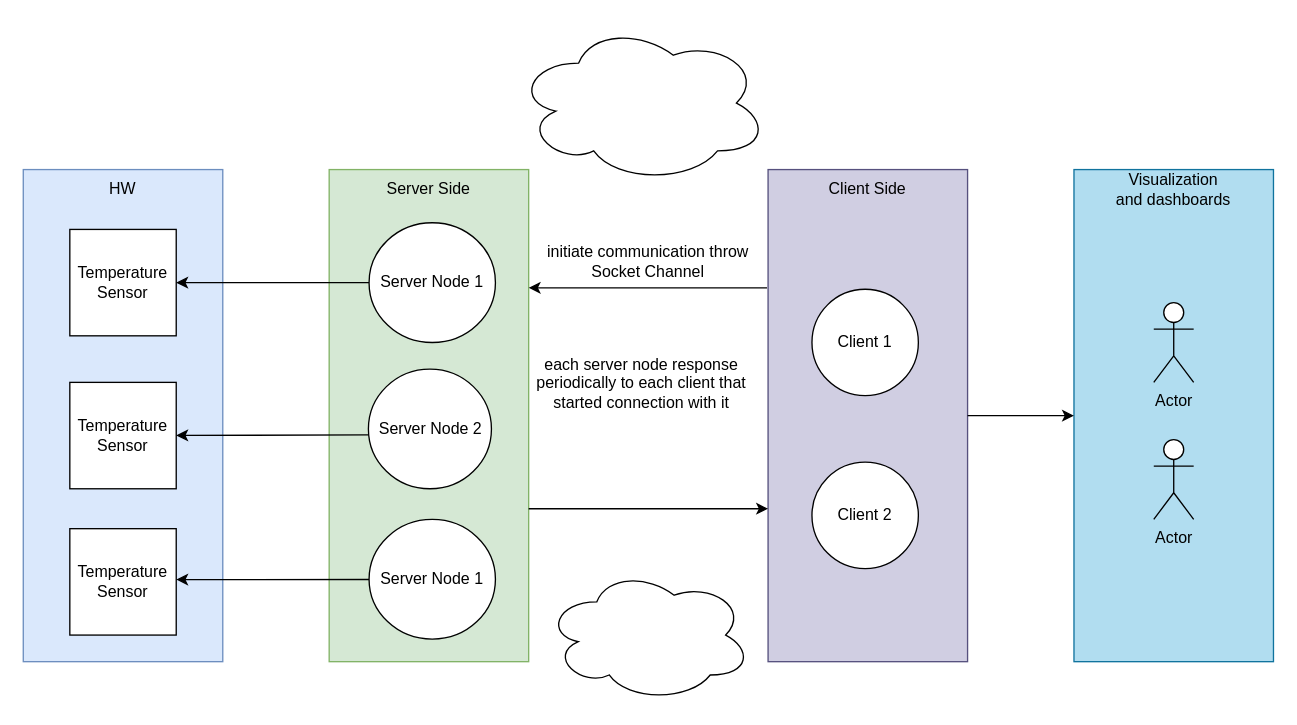
This 1297x725 diagram has some shape labels left out. The centre of each missing label's shape, as x and y in pixels:
"Can be any protocol Socket, Http, Mqtt, .... Here Socket is used" belongs at pixel 641 102.
"relationship is Many to Many" belongs at pixel 647 634.
